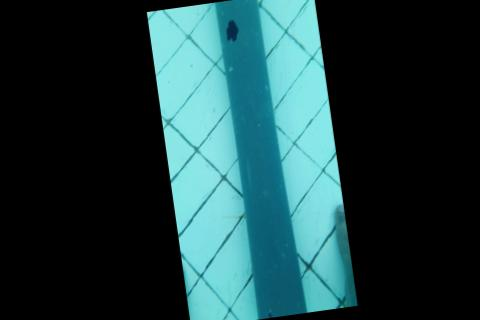kebocoran: (223, 15, 240, 43)
